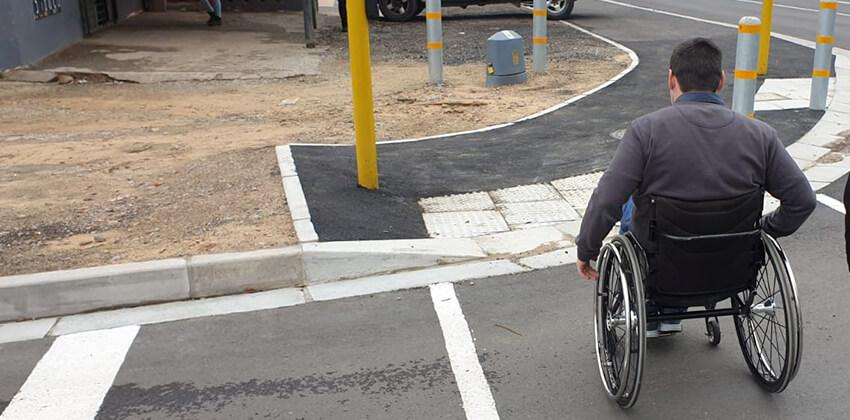wheelchair: (574, 37, 818, 411)
